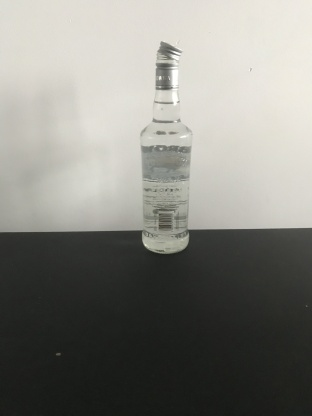nakretka: (153, 39, 183, 90)
